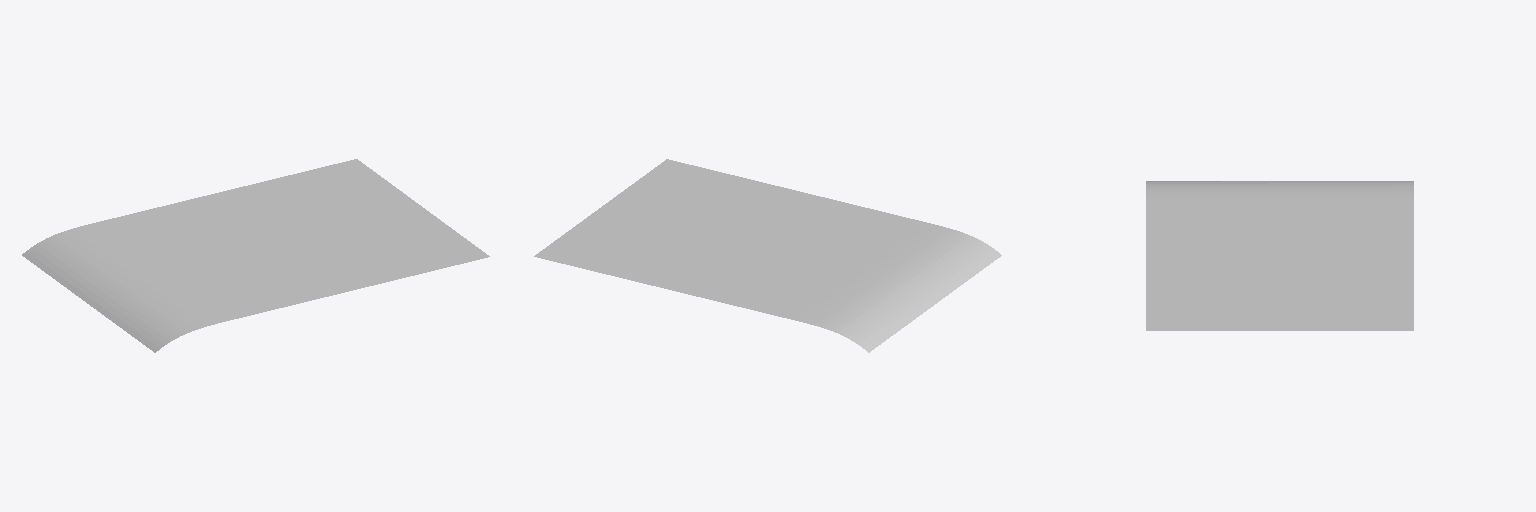
The model's file is CurvePaper_000068.obj.
3 renders of one model, left to right at view 1: azimuth 30°, elevation 25°; view 2: azimuth 150°, elevation 25°; view 3: azimuth 270°, elevation 25°, orthographic.
Visible parts, largest first — view 1: Plane; view 2: Plane; view 3: Plane.
Part boxes in pixels (bbox=[...]): Plane: bbox=[22, 159, 489, 352]; Plane: bbox=[534, 159, 1001, 352]; Plane: bbox=[1146, 181, 1413, 330].
Size of the model in its own units: 3.28 by 0.1374 by 2.26.